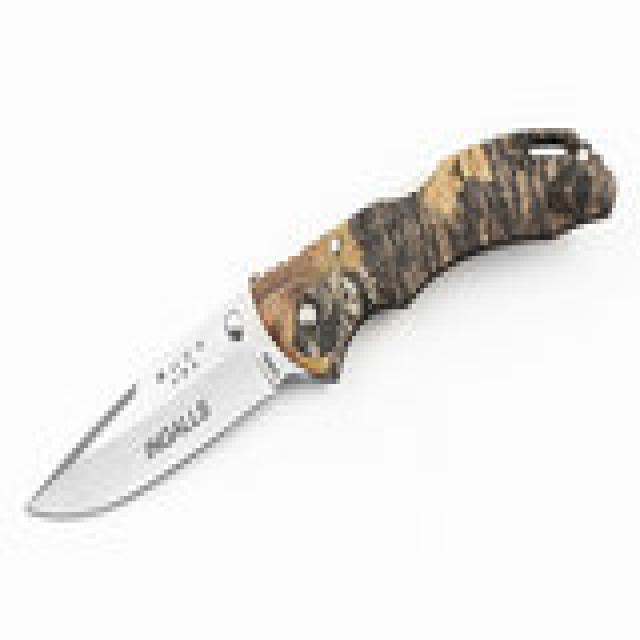Knife: (23, 117, 624, 558)
